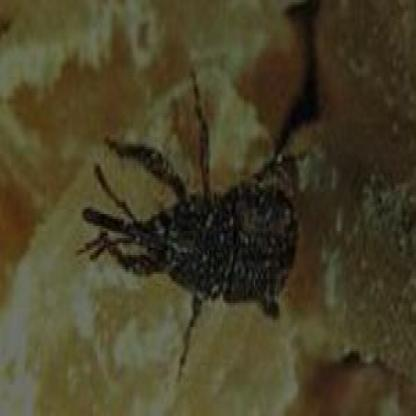rice-bug: (88, 116, 304, 330)
